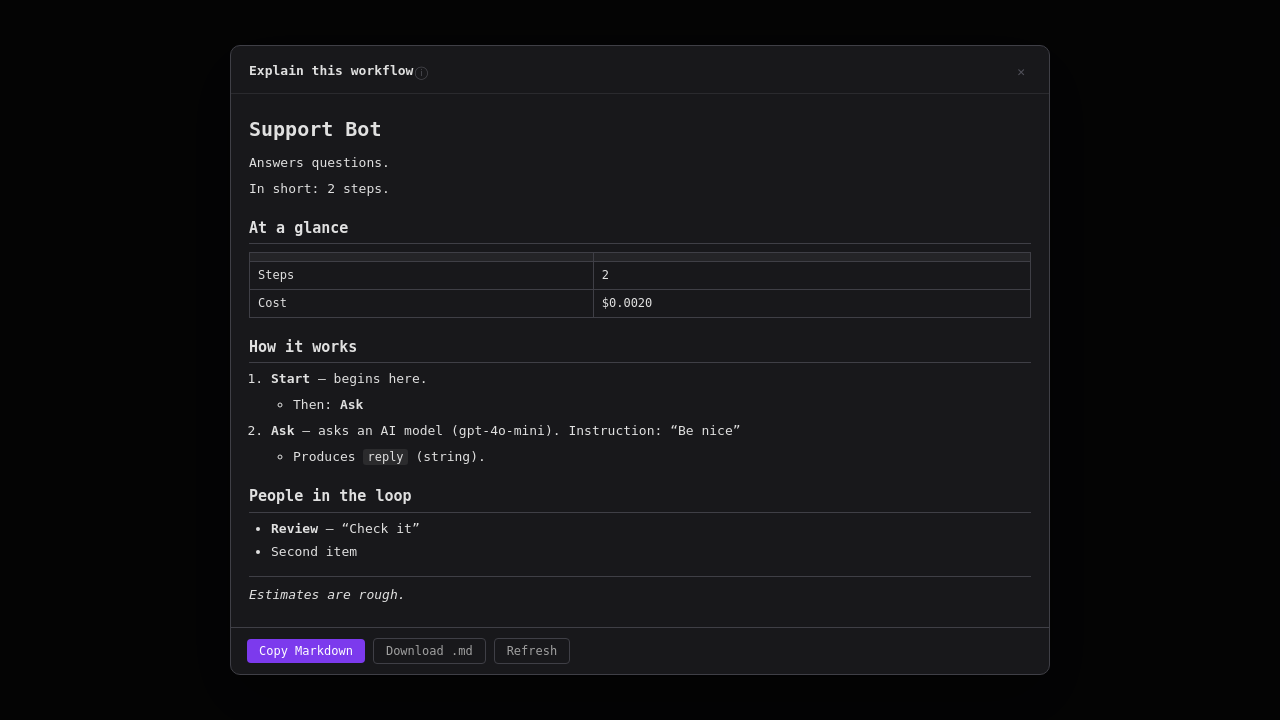
Scenario: ExplainModal › copies and downloads the Markdown, and can refresh
Later steps or results of the test are not shown.
Check: the heading "Support Bot" is shown, box left=249, top=117, right=382, bottom=141
Click the button "Copy Markdown" at (306, 651), box left=247, top=639, right=365, bottom=663
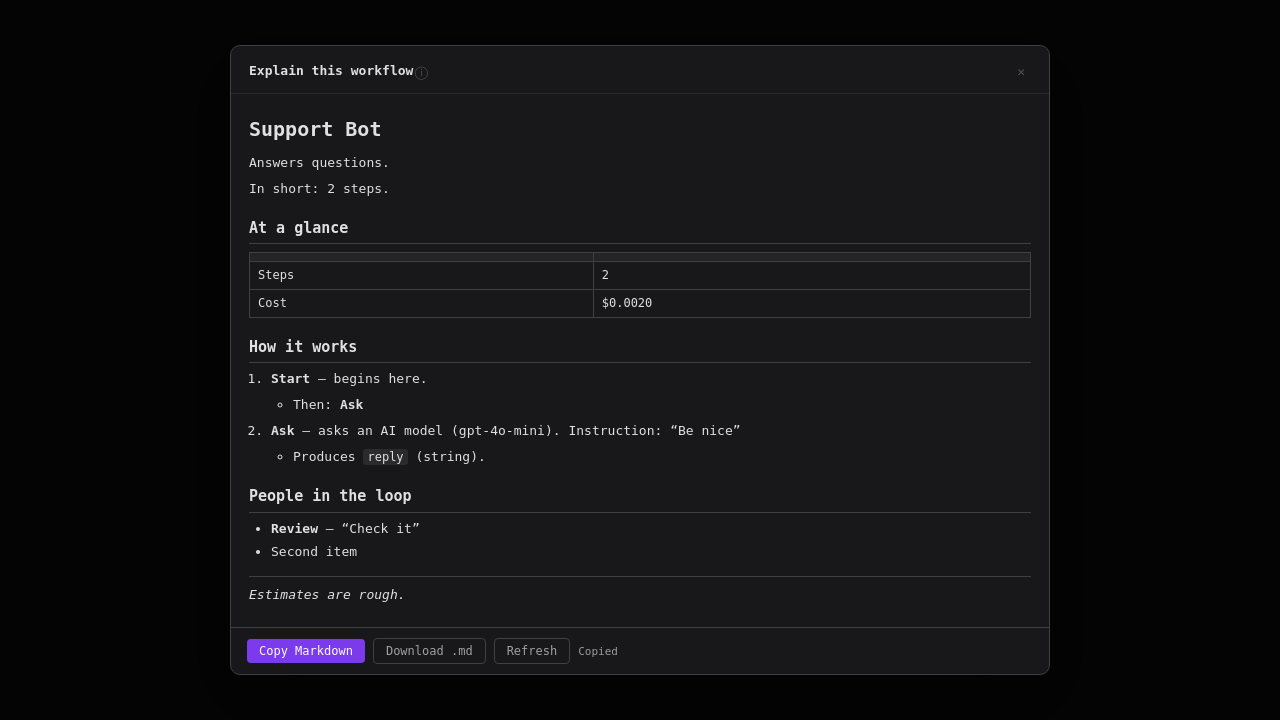
Check: the text "Copied" is shown, box left=578, top=645, right=618, bottom=658
